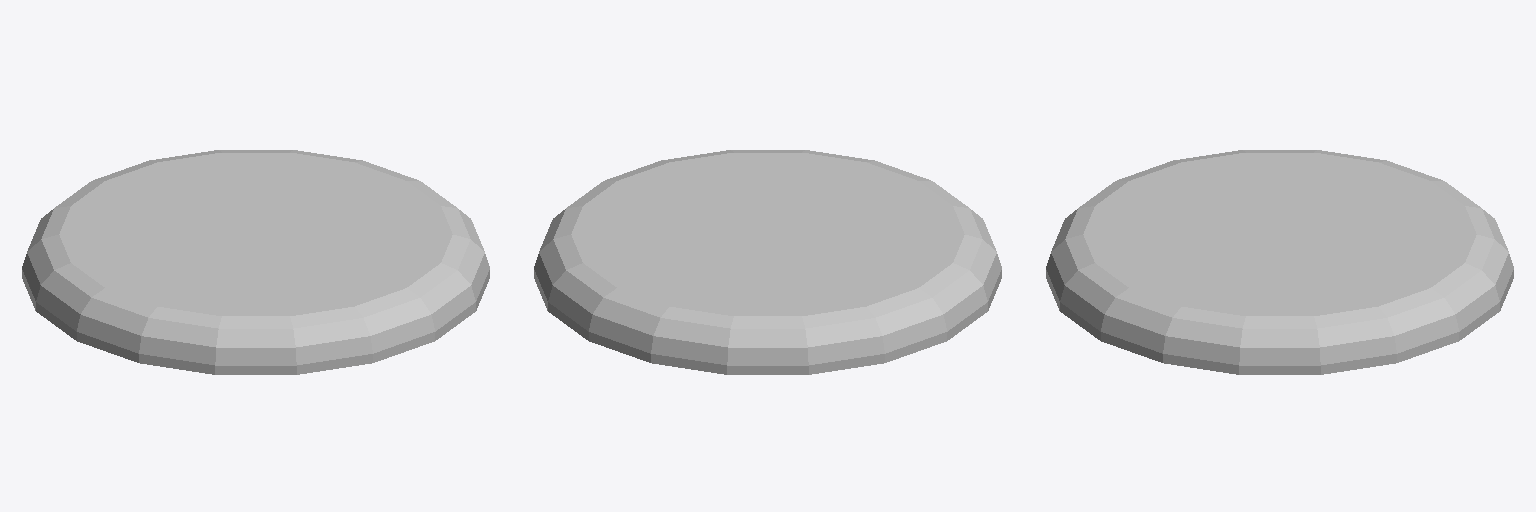
File: frisbee.obj
The picture shows the model from 3 angles: view 1: azimuth 30°, elevation 25°; view 2: azimuth 150°, elevation 25°; view 3: azimuth 270°, elevation 25°; orthographic projection.
Parts seen in each view (by area): view 1: Frisbee; view 2: Frisbee; view 3: Frisbee.
Boxes of the visible parts, <box> form: Frisbee: <box>22,150,489,374</box>; Frisbee: <box>534,150,1001,374</box>; Frisbee: <box>1046,150,1513,374</box>.
Size of the model in its own units: 2.11 by 0.2169 by 2.14.